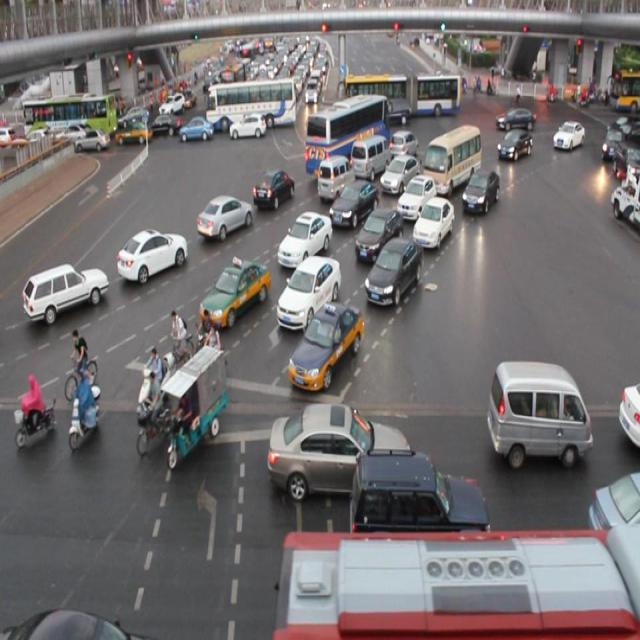car: (270, 402, 409, 496), (350, 446, 489, 536), (287, 304, 365, 391), (24, 256, 109, 321), (198, 256, 270, 332), (275, 252, 341, 331), (361, 232, 422, 308), (117, 223, 188, 280), (586, 468, 640, 542), (274, 212, 330, 270), (347, 208, 398, 268), (197, 190, 253, 239), (327, 177, 379, 225), (412, 193, 455, 250), (394, 172, 435, 218), (254, 166, 297, 206), (461, 166, 498, 212), (380, 149, 420, 188), (495, 130, 532, 164), (550, 120, 583, 150), (390, 126, 418, 161)
truck: (486, 356, 592, 470), (423, 124, 480, 188), (351, 133, 393, 178), (315, 154, 354, 200)
van: (274, 519, 640, 640), (306, 91, 392, 178)
